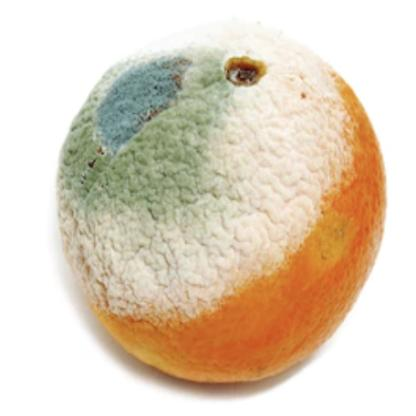rotten: (56, 39, 390, 385)
